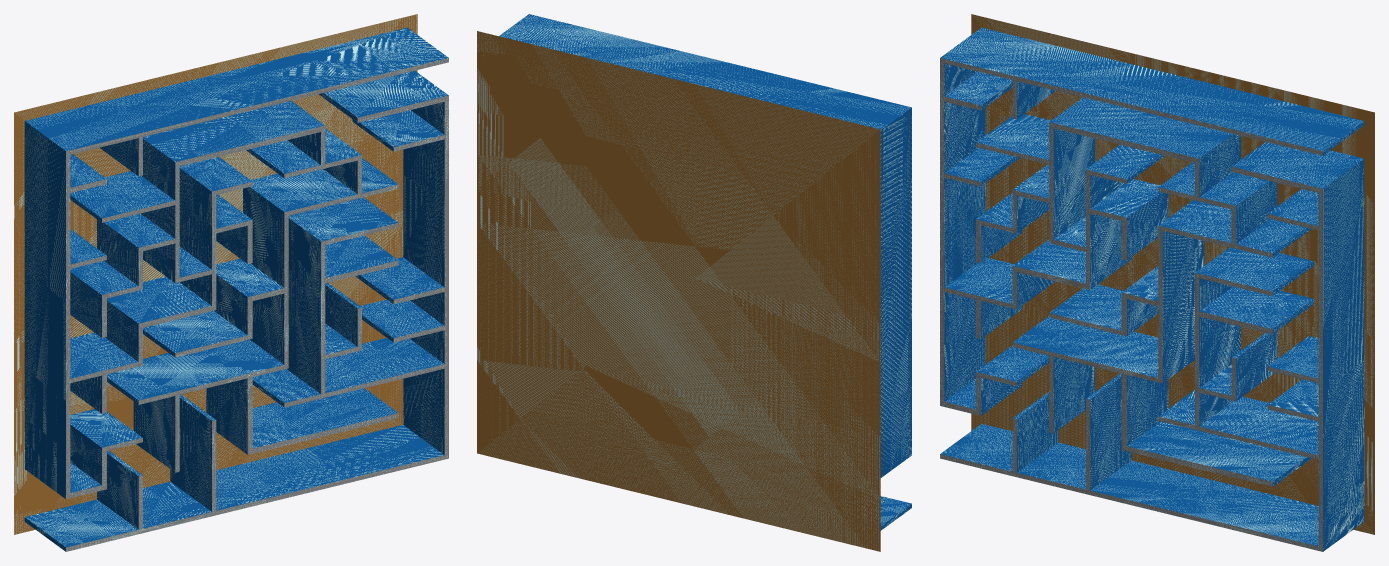
Rendered from UniqueSolutionMaze_env.dae.
3 renders of one model, left to right at view 1: azimuth 30°, elevation 25°; view 2: azimuth 150°, elevation 25°; view 3: azimuth 330°, elevation 25°, orthographic.
Visible parts, largest first — view 1: instance_0 (×5); view 2: instance_0 (×3); view 3: instance_0 (×5).
Part boxes in pixels (x1,y1,x2,y2): instance_0 (×5): (14, 14, 448, 551); instance_0 (×3): (477, 14, 911, 551); instance_0 (×5): (940, 14, 1374, 551).
Bounding box in the file's own units: 422 × 75.2 × 422.
